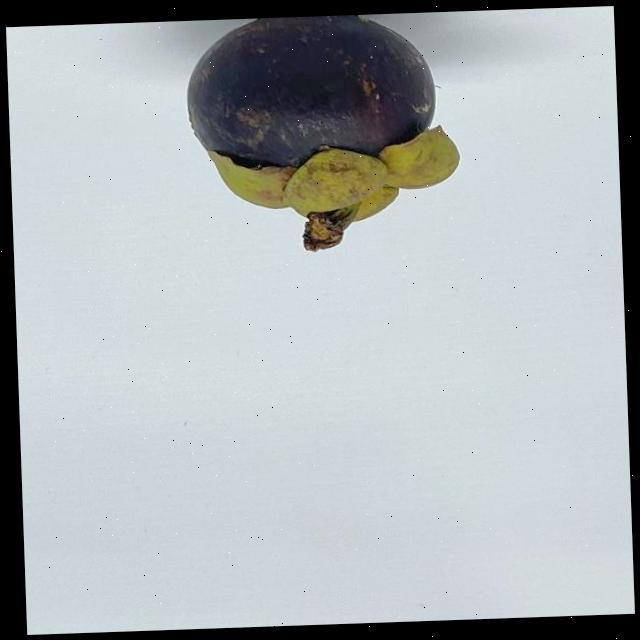mangosteen: (178, 10, 473, 266)
